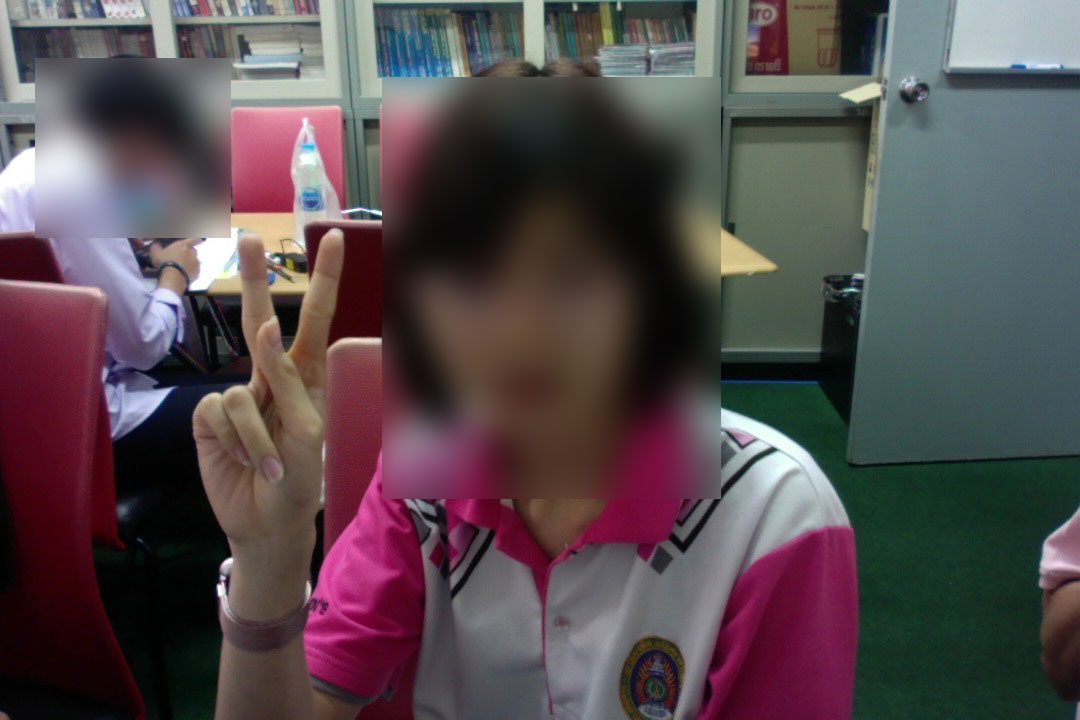ko: (188, 209, 356, 533)
